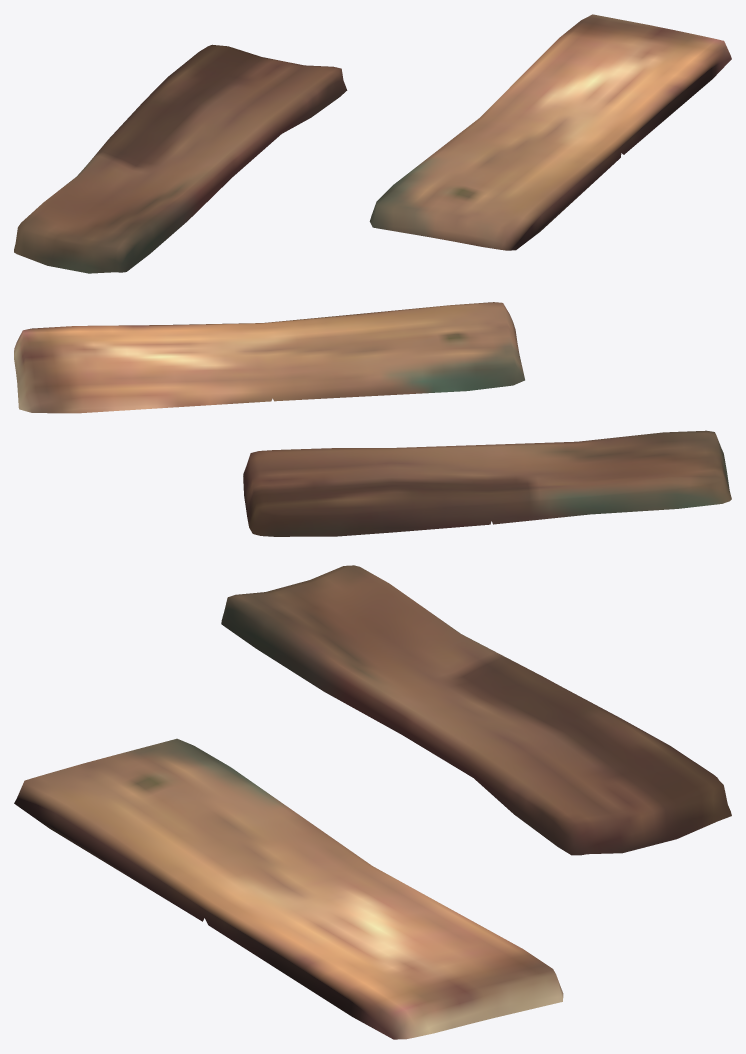
The model's file is Beach_Details_4.glb.
3 views of the same model, one above another, from view 1: azimuth 30°, elevation 25°; view 2: azimuth 150°, elevation 25°; view 3: azimuth 270°, elevation 25° (orthographic). The views are drawn at different scales.
Parts seen in each view (by area): view 1: Object_2.025; view 2: Object_2.025; view 3: Object_2.025.
Part boxes in pixels (x1,y1,x2,y2): Object_2.025: (14,14,731,273); Object_2.025: (14,302,731,536); Object_2.025: (14,565,731,1039).
Bounding box in the file's own units: 15.32 × 0.811 × 10.29.
1 material, 1 textured.
